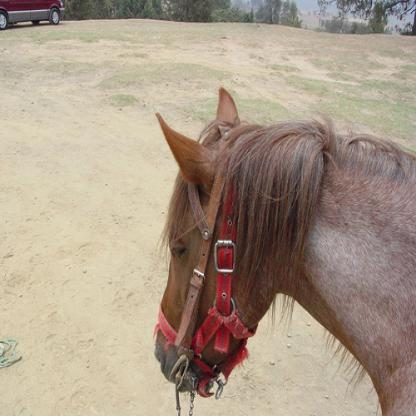car: (0, 0, 70, 34)
horse: (152, 82, 415, 414)
